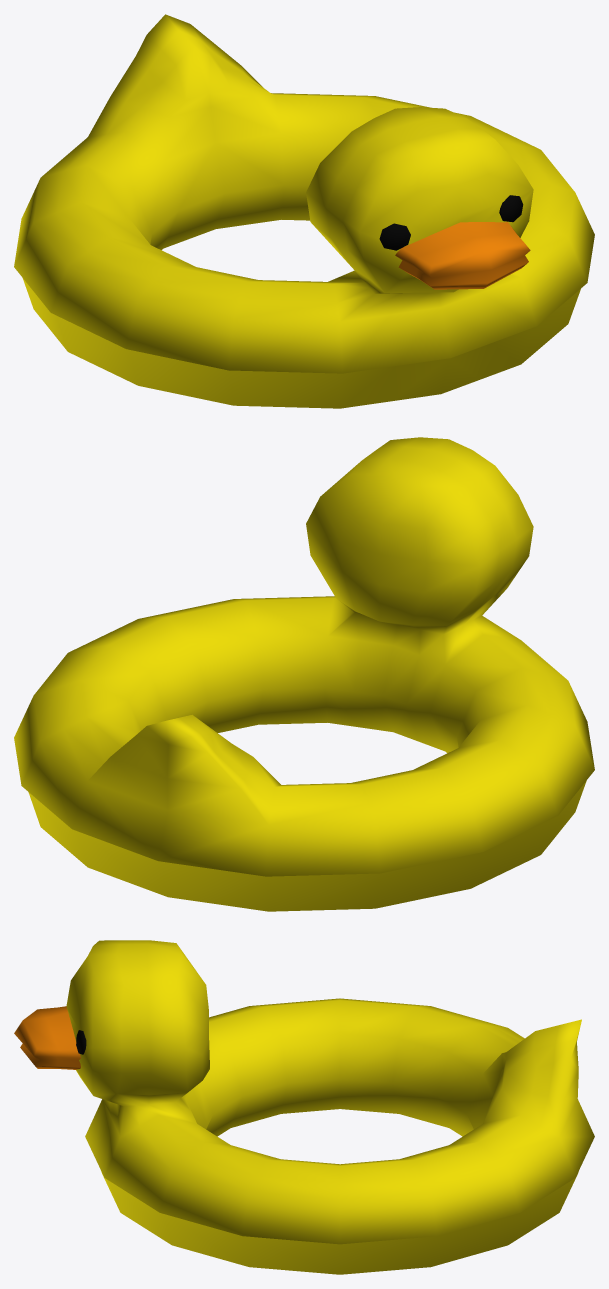
The model's file is CUDuckFloatie.fbx.
3 renders of one model, top to bottom at view 1: azimuth 30°, elevation 25°; view 2: azimuth 150°, elevation 25°; view 3: azimuth 270°, elevation 25°, orthographic. The views are drawn at different scales.
Parts seen in each view (by area): view 1: DuckFloatie, DuckBill, DuckEyes; view 2: DuckFloatie; view 3: DuckFloatie, DuckBill.
Boxes of the visible parts, x1,y1,x2,y2 form: DuckFloatie: (14,14,594,408); DuckBill: (395,222,530,289); DuckEyes: (379,195,523,250); DuckFloatie: (14,437,594,911); DuckFloatie: (66,940,594,1274); DuckBill: (14,1006,80,1069).
Bounding box in the file's own units: 241 × 123 × 274.
